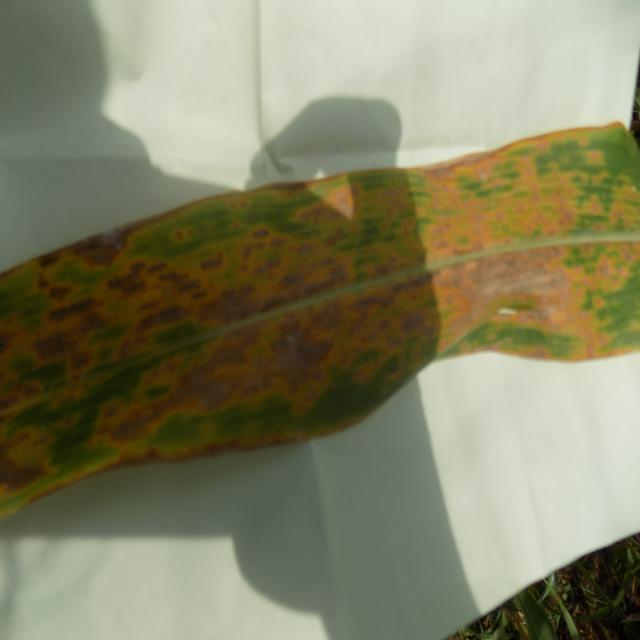millet_rust: (0, 116, 640, 526)
